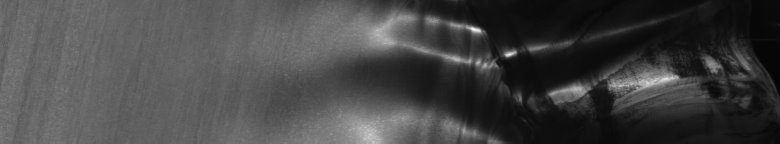ke: (388, 0, 667, 144)
